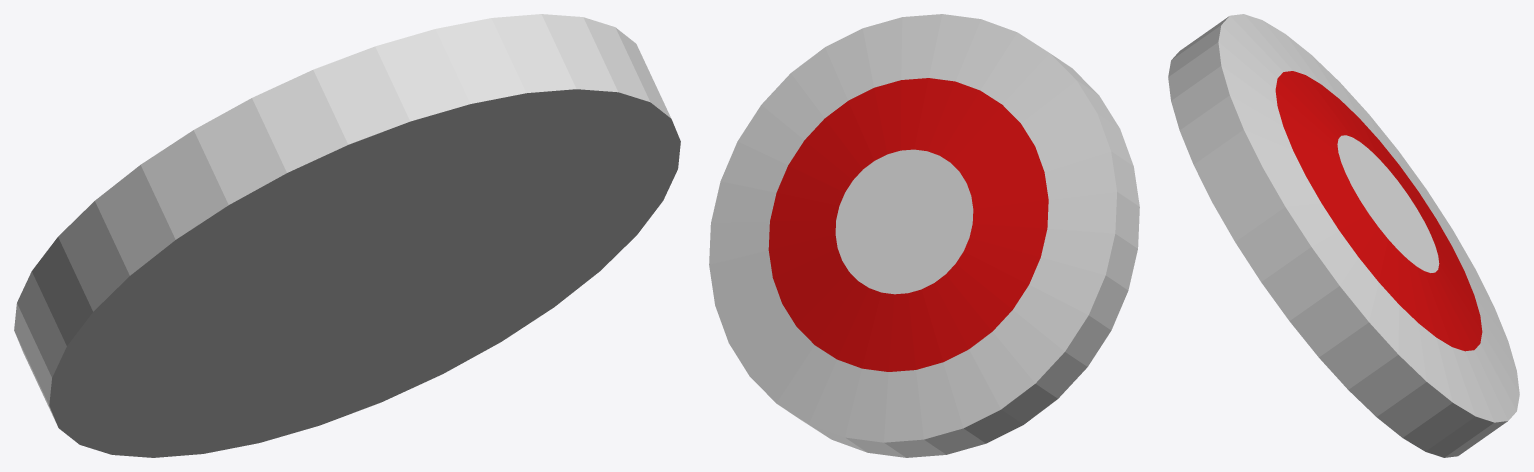
The model's file is Target_V2.FBX.
The picture shows the model from 3 angles, left to right: view 1: azimuth 30°, elevation 25°; view 2: azimuth 150°, elevation 25°; view 3: azimuth 270°, elevation 25°; orthographic projection. The views are drawn at different scales.
Parts seen in each view (by area): view 1: Cylinder; view 2: Cylinder; view 3: Cylinder.
Part boxes in pixels (bbox=[...]): Cylinder: bbox=[14, 14, 680, 457]; Cylinder: bbox=[709, 14, 1139, 457]; Cylinder: bbox=[1168, 14, 1519, 457].
Bounding box in the file's own units: 2579 × 2243 × 1844.
